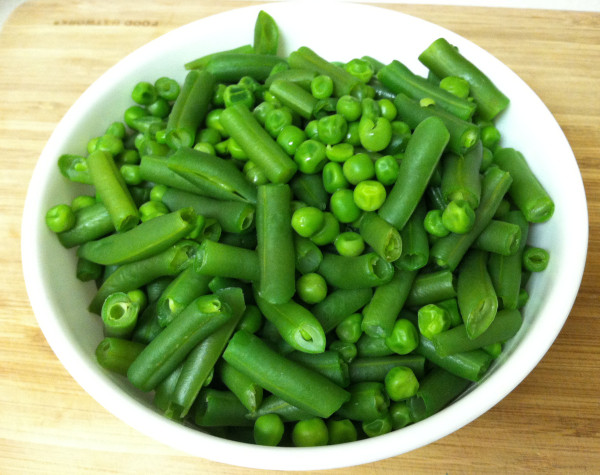boiled peas: (114, 70, 498, 379)
